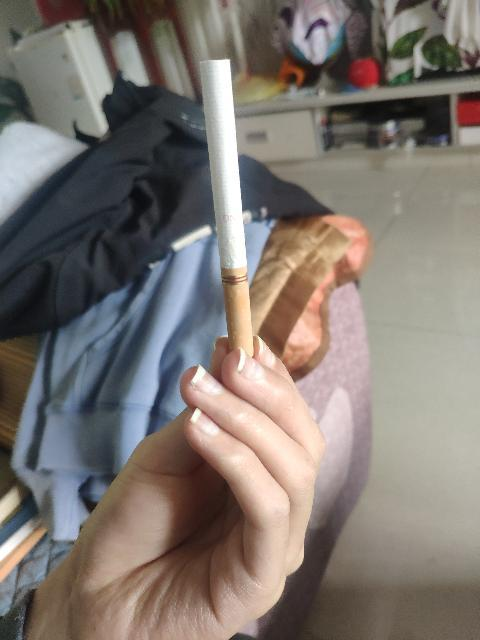Smoking: (199, 60, 255, 358)
